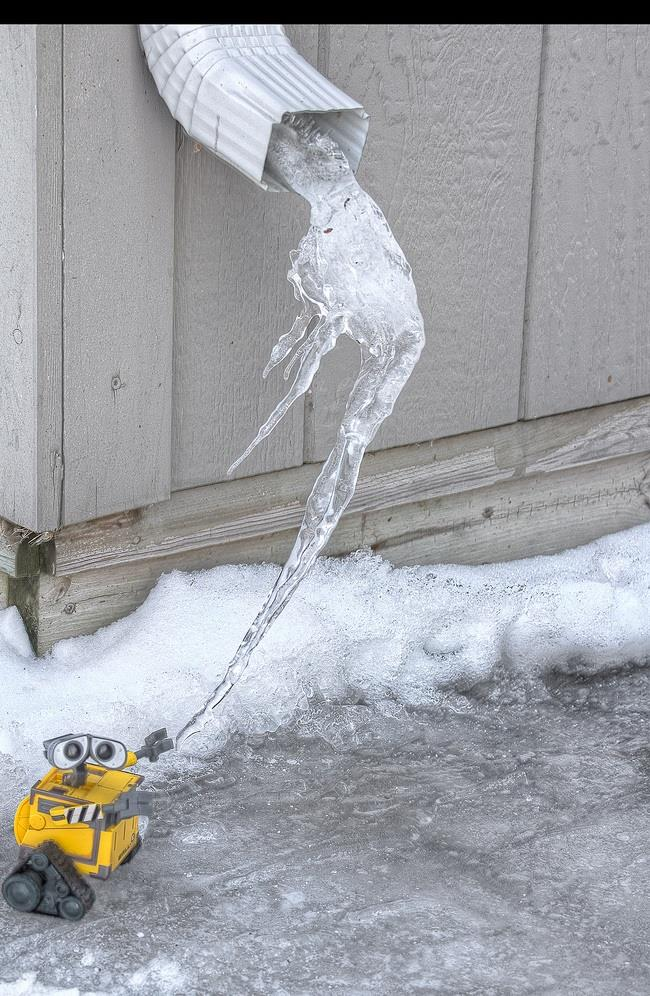walle: (3, 731, 176, 920)
